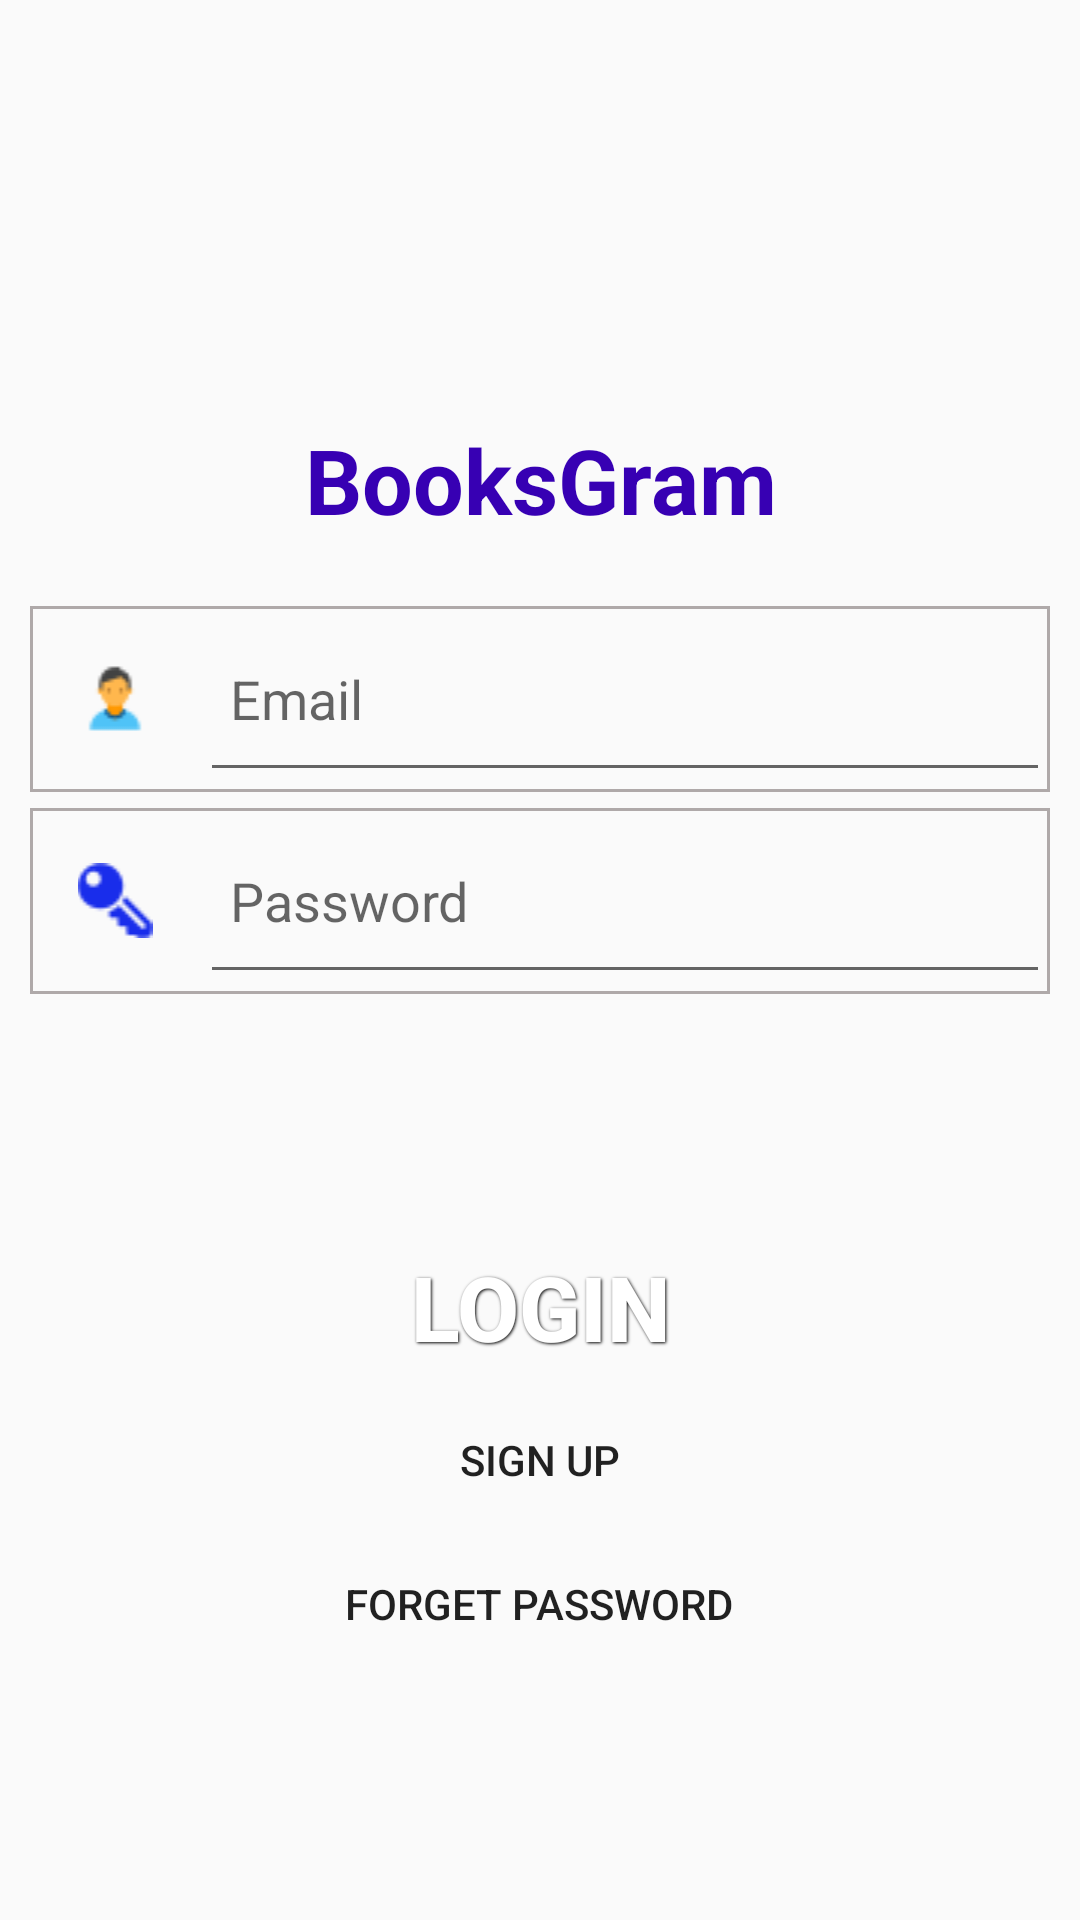

Point at icon controls on the screen. Image size 1080 x 1920, points as (x=x, y=y).
user: (x=115, y=698)
